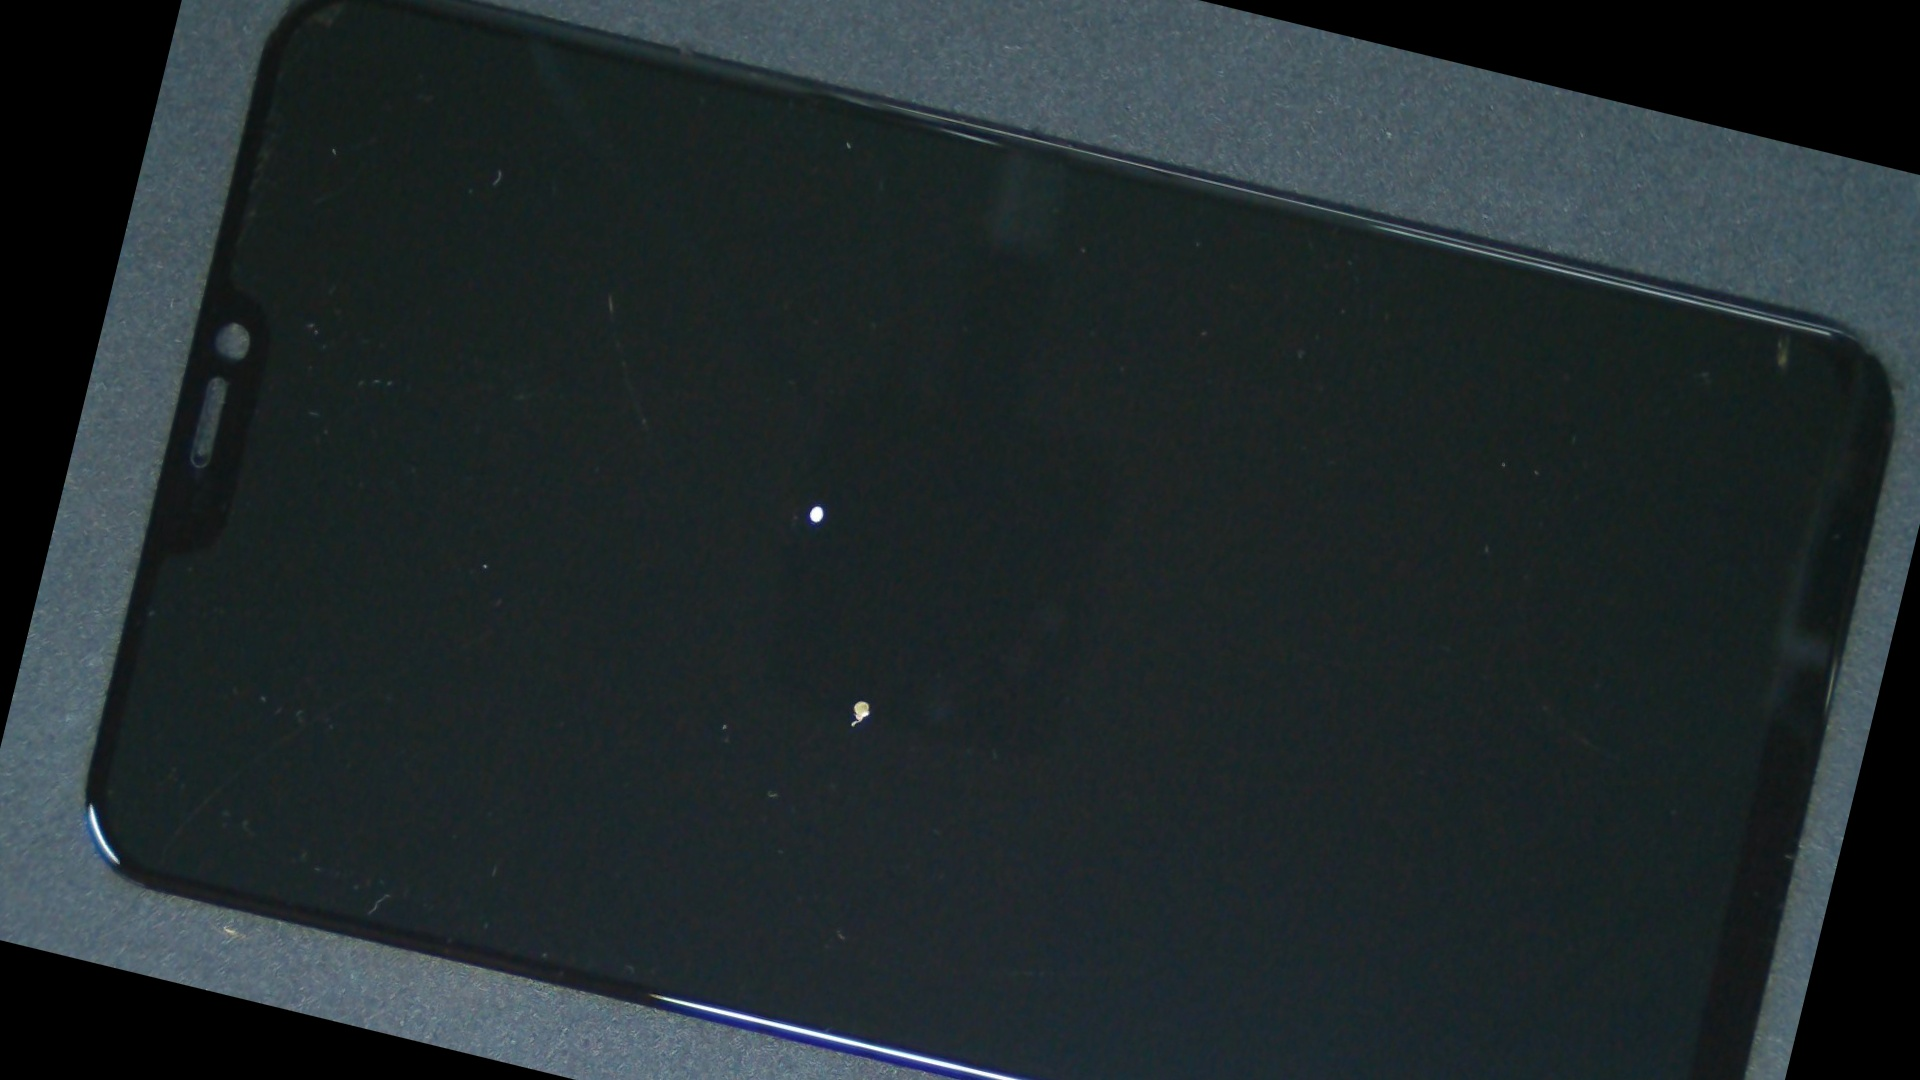oil: (376, 233, 1365, 1080), (392, 135, 1242, 872)
